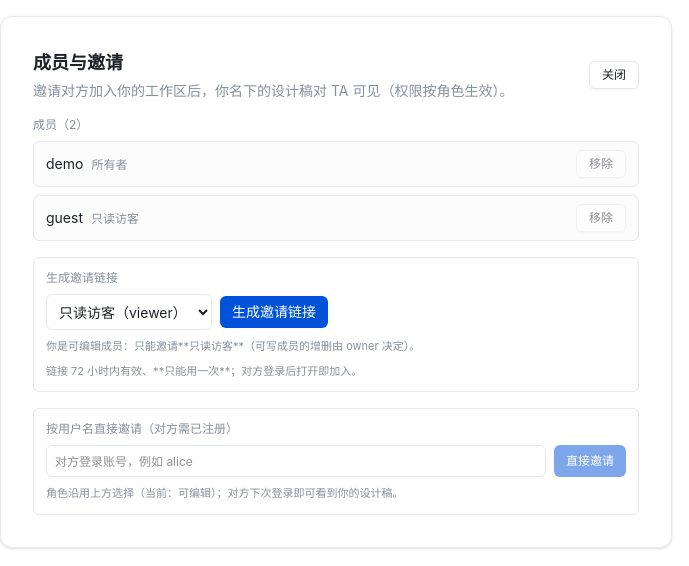
Test: T46a-4：成员与邀请面板 › T46a-4：固定工作区模式隐藏选择器；editor 可邀但只能邀 viewer
Expected: the element with test id "member-row-demo" is shown, [33, 141, 639, 187]
Expected: the button with test id "members-close" is shown, [589, 61, 639, 89]
输入用户名后"直接邀请"可用（不再是 owner-only）
Type "newbie" into the field with test id "invite-username" at (296, 461), box [46, 445, 546, 477]
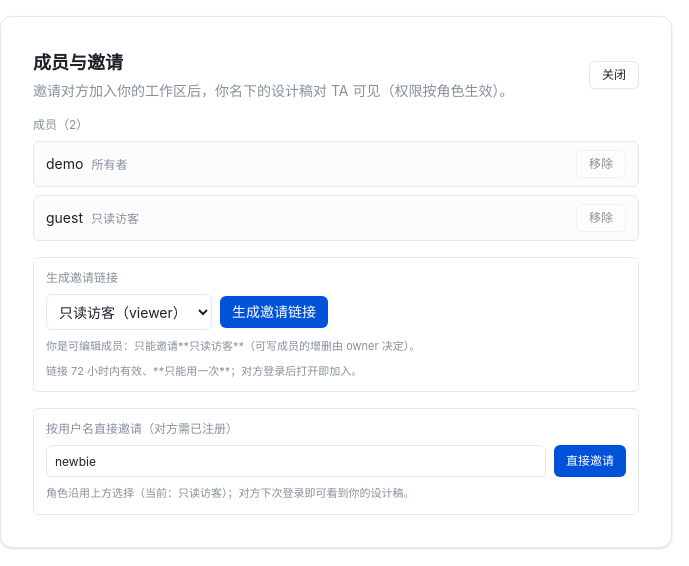
Result: the button with test id "invite-username-submit" is enabled at [554, 445, 626, 477]
